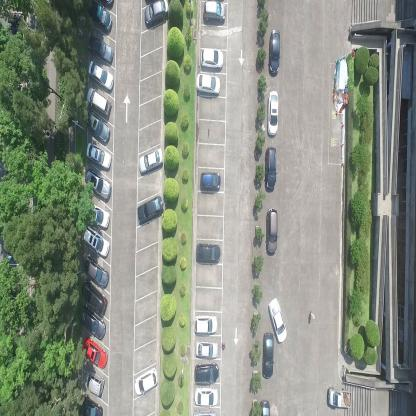car: (268, 295, 288, 345), (80, 278, 107, 315), (85, 166, 111, 203), (136, 192, 164, 226), (83, 225, 110, 260), (79, 305, 106, 340), (87, 60, 115, 93), (82, 255, 109, 289), (81, 336, 108, 368), (85, 110, 110, 144), (87, 32, 113, 64), (88, 0, 112, 34), (85, 86, 111, 117), (85, 141, 112, 170), (138, 146, 164, 176), (134, 365, 158, 397), (143, 0, 169, 27), (85, 202, 109, 231), (265, 207, 278, 256), (264, 145, 278, 190), (196, 72, 221, 97), (268, 26, 281, 74), (196, 241, 222, 265), (261, 332, 274, 379), (84, 370, 105, 399), (327, 385, 352, 408), (202, 0, 226, 23), (194, 362, 219, 384), (194, 386, 219, 408), (267, 89, 278, 137), (200, 46, 224, 68), (193, 314, 218, 335), (78, 394, 103, 415), (200, 170, 221, 192), (196, 339, 219, 359), (259, 398, 271, 416)
